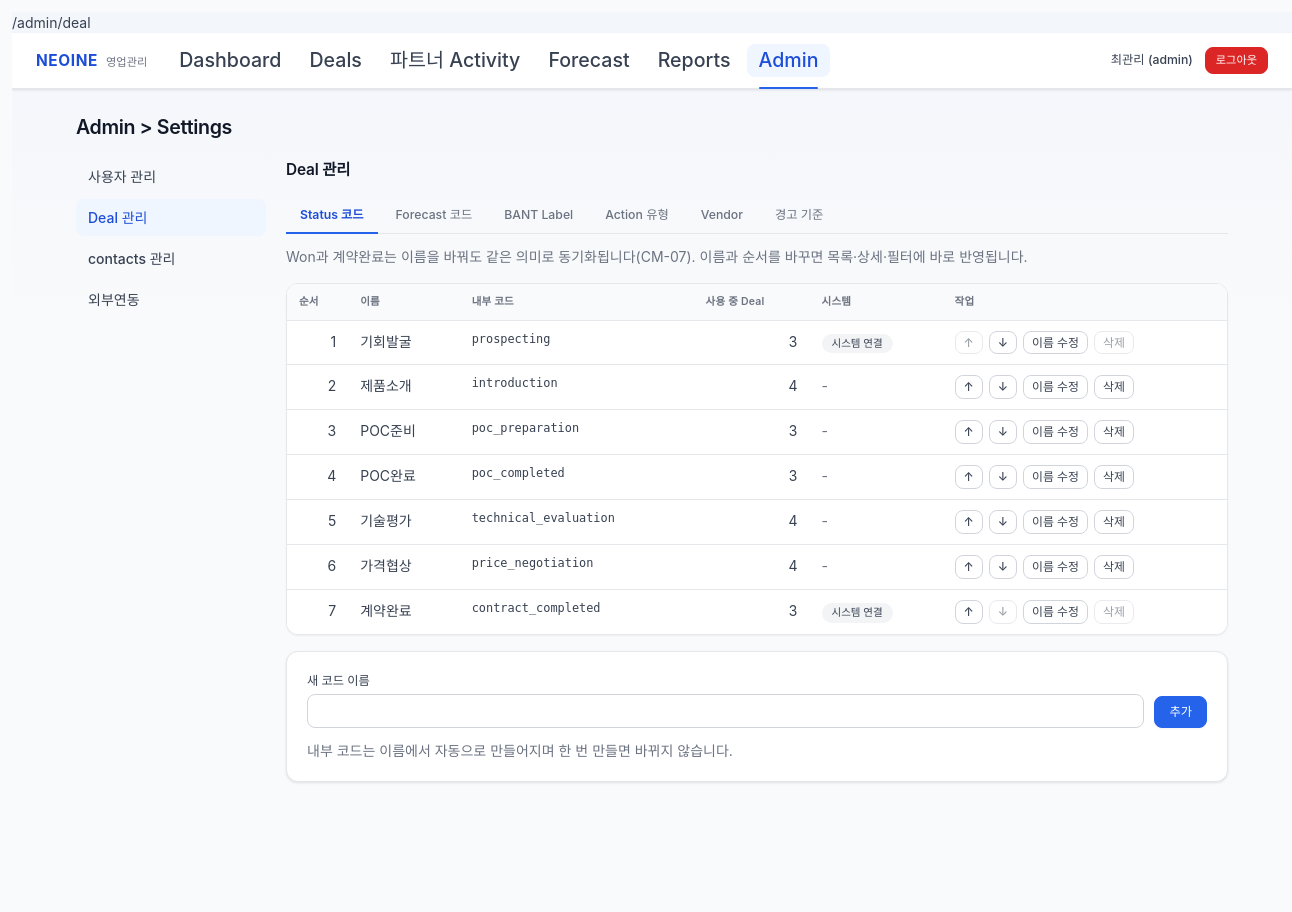
Test: BANT Label 관리 목록 (T-LABEL-01, T-ADMIN-06) › marks default labels and shows the usage count and who created them
Step 1. Click the tab "BANT Label" → (539, 216), box [490,198,587,234]
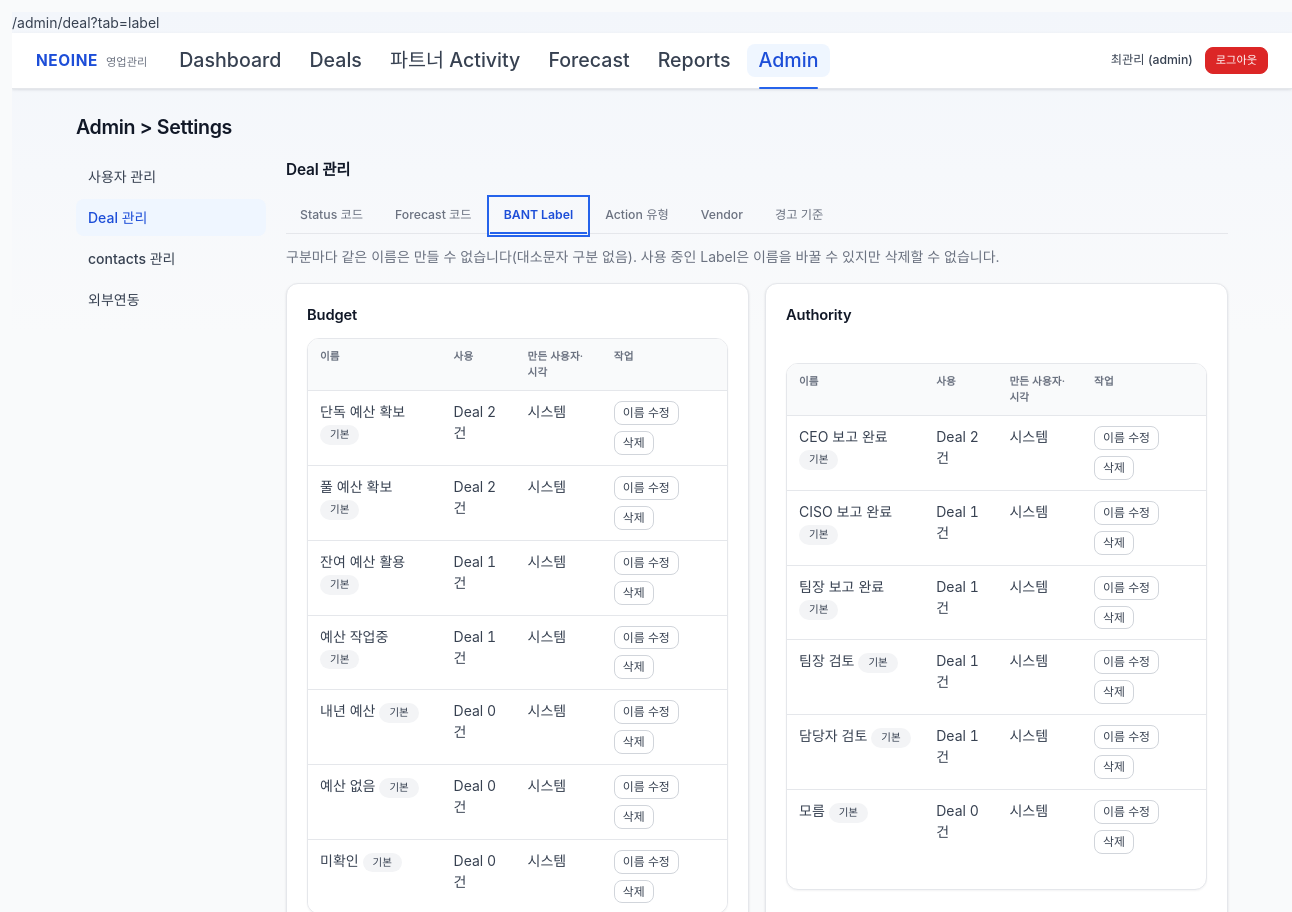
Check: the text "단독 예산 확보" is shown, box [320,403,405,420]
Check: the text "기본" below "단독 예산 확보" is shown, box [330,428,349,441]
Check: the text "Deal 2건" next to "단독 예산 확보" is shown, box [454,403,496,441]
